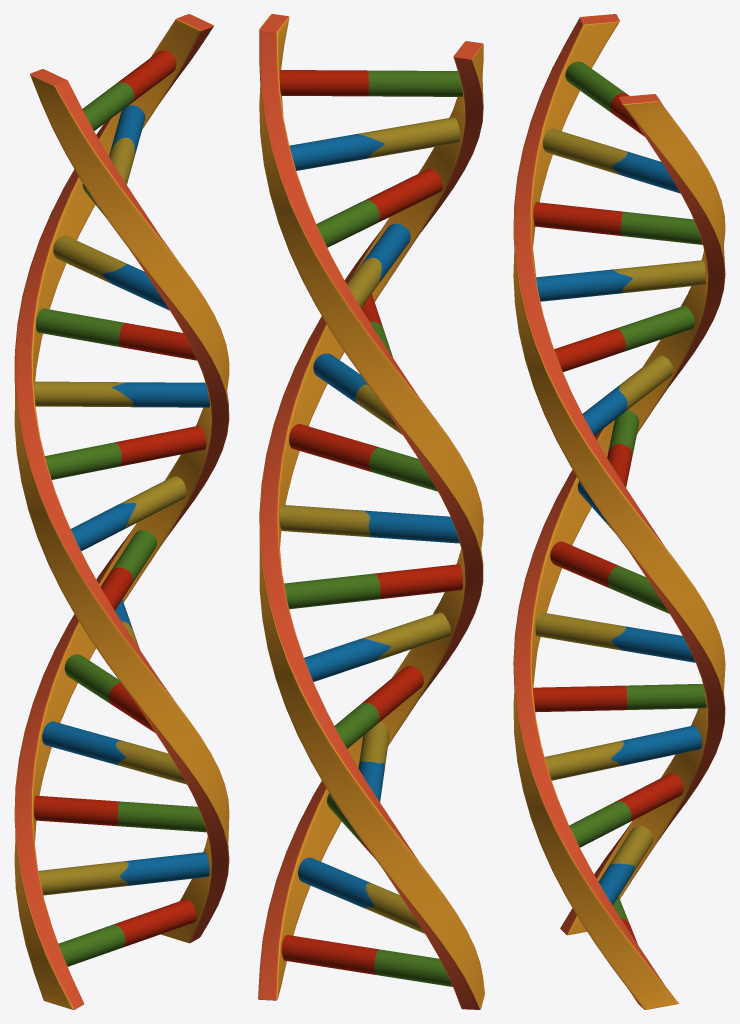
The model's file is dna.glb.
3 renders of one model, left to right at view 1: azimuth 30°, elevation 25°; view 2: azimuth 150°, elevation 25°; view 3: azimuth 270°, elevation 25°, orthographic. The views are drawn at different scales.
Size of the model in its own units: 0.1243 by 0.5798 by 0.1229.
Materials: 1 (1 with a texture image).
